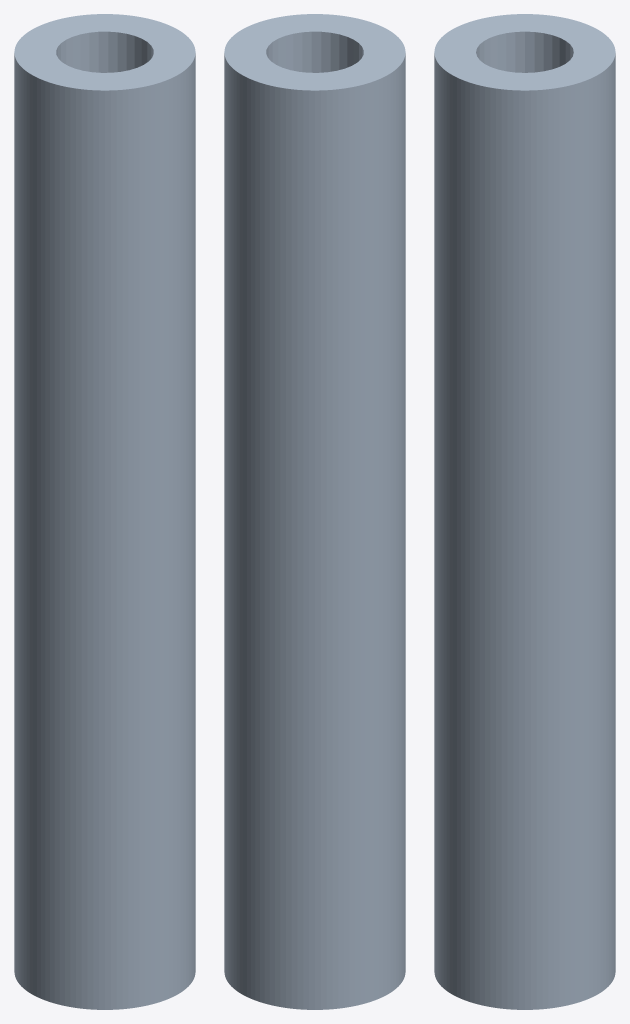
Rendered from pi_standoff_0.019_0.0245.dae.
3 renders of one model, left to right at view 1: azimuth 30°, elevation 25°; view 2: azimuth 150°, elevation 25°; view 3: azimuth 270°, elevation 25°, orthographic.
Parts seen in each view (by area): view 1: pi_standoff_0.019_0.0245; view 2: pi_standoff_0.019_0.0245; view 3: pi_standoff_0.019_0.0245.
Part boxes in pixels (left/top/right/bottom): pi_standoff_0.019_0.0245: left=14, top=14, right=195, bottom=1009; pi_standoff_0.019_0.0245: left=224, top=14, right=405, bottom=1009; pi_standoff_0.019_0.0245: left=434, top=14, right=615, bottom=1009.
Bounding box in the file's own units: 0.005 × 0.005 × 0.028.
